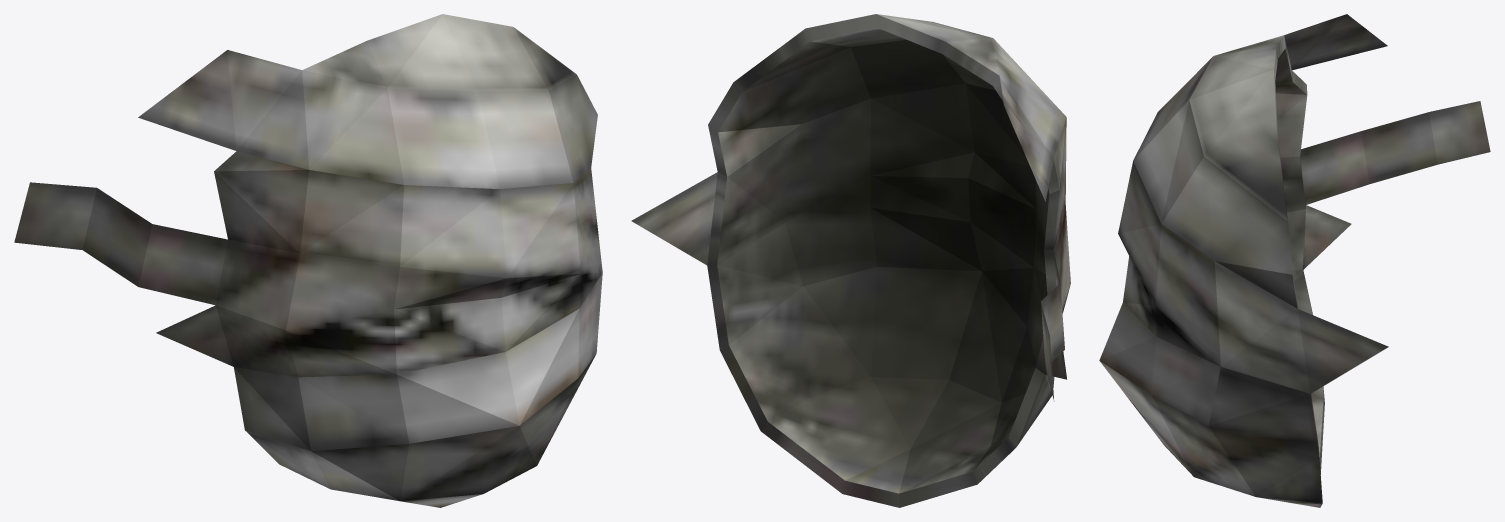
Rendered from gibdo.glb.
The picture shows the model from 3 angles, left to right: view 1: azimuth 30°, elevation 25°; view 2: azimuth 150°, elevation 25°; view 3: azimuth 270°, elevation 25°; orthographic projection. The views are drawn at different scales.
Visible parts, largest first — view 1: gibdomask.obj; view 2: gibdomask.obj; view 3: gibdomask.obj.
Part boxes in pixels (<box>): gibdomask.obj: <box>14,14,602,507</box>; gibdomask.obj: <box>631,14,1070,507</box>; gibdomask.obj: <box>1099,14,1490,507</box>.
Bounding box in the file's own units: 25.04 × 23.26 × 18.99.
Materials: 1 (1 with a texture image).
